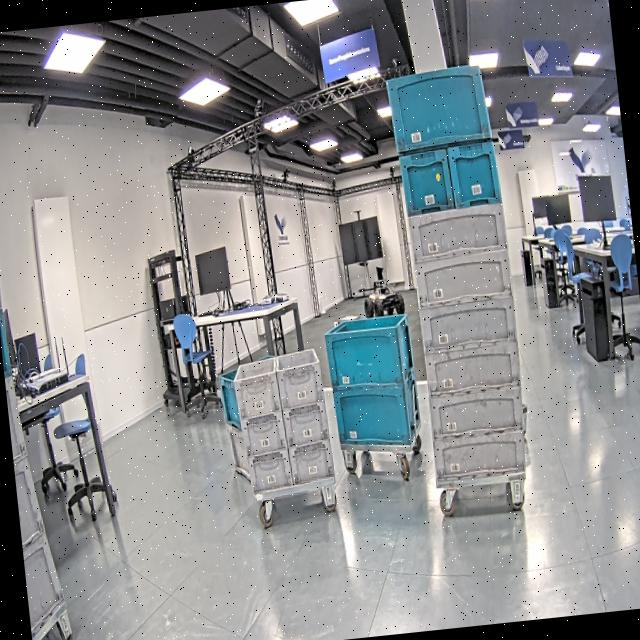Box3G: (404, 198, 511, 263), (413, 246, 515, 306), (424, 340, 522, 400), (418, 293, 518, 351), (430, 381, 524, 442), (433, 426, 528, 486)
Box4G: (20, 524, 80, 638), (13, 452, 46, 548), (226, 419, 251, 482)
Box8G: (229, 356, 283, 419), (273, 345, 324, 409), (286, 438, 338, 485), (238, 411, 286, 458), (282, 404, 332, 449), (246, 450, 292, 494)
BoxB4: (384, 63, 494, 156), (319, 312, 418, 396), (329, 380, 423, 452), (217, 366, 244, 432)
BoxB8: (446, 142, 506, 212), (394, 150, 452, 218)
